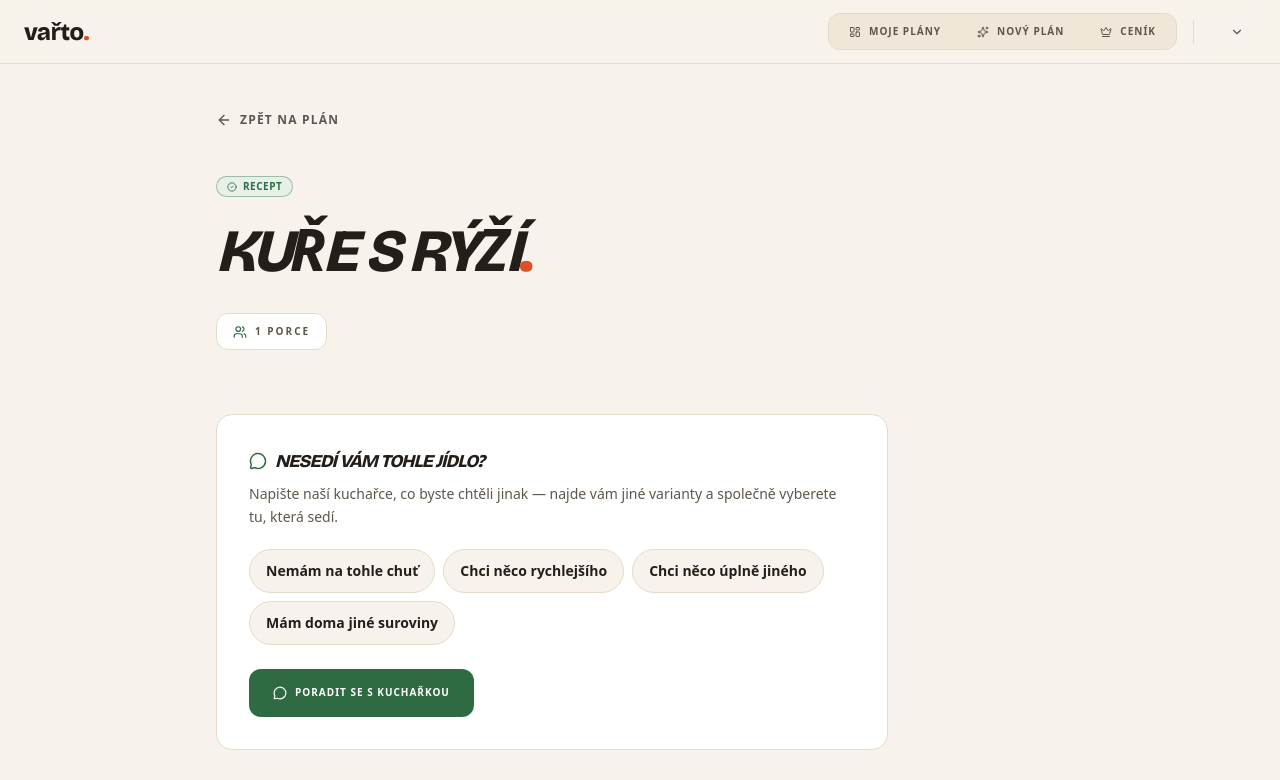
it: RecipePage refine chat integration › undoing a swap › offers the way back and commits the previous recipe id
Click the button "Poradit se s kuchařkou" at (361, 692), box 249,668 -> 474,716
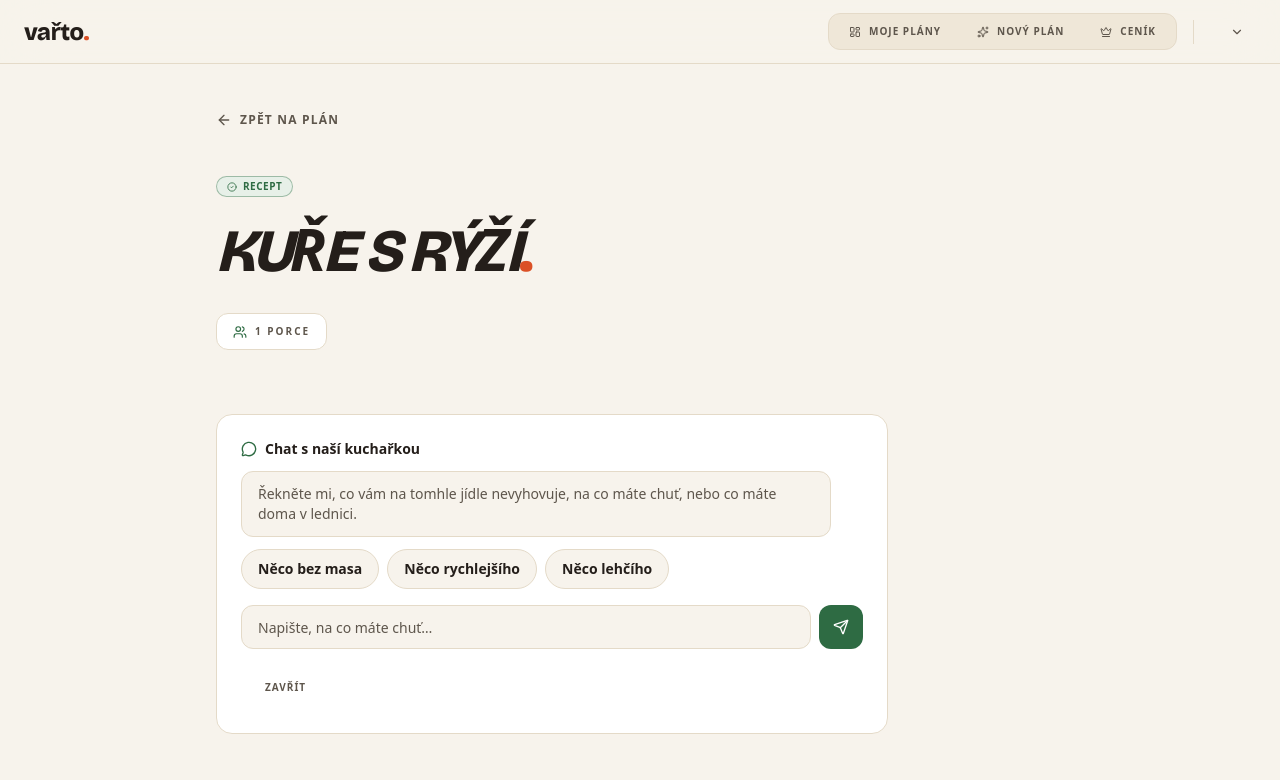
Type "něco s kuřecím" into the field with placeholder "Napište, na co máte chuť…" at (526, 627), box 241,605 -> 811,649
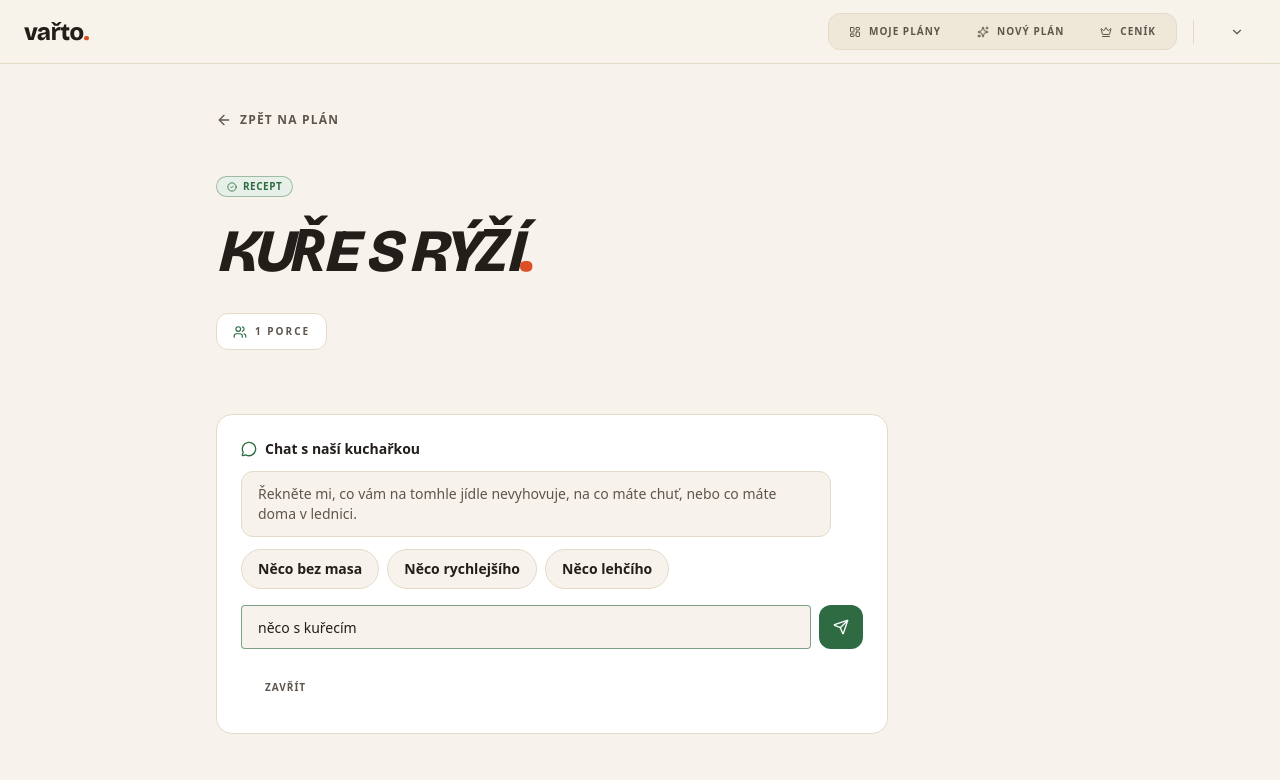
Click the button named "Odeslat" at (841, 627), box 819,605 -> 863,649
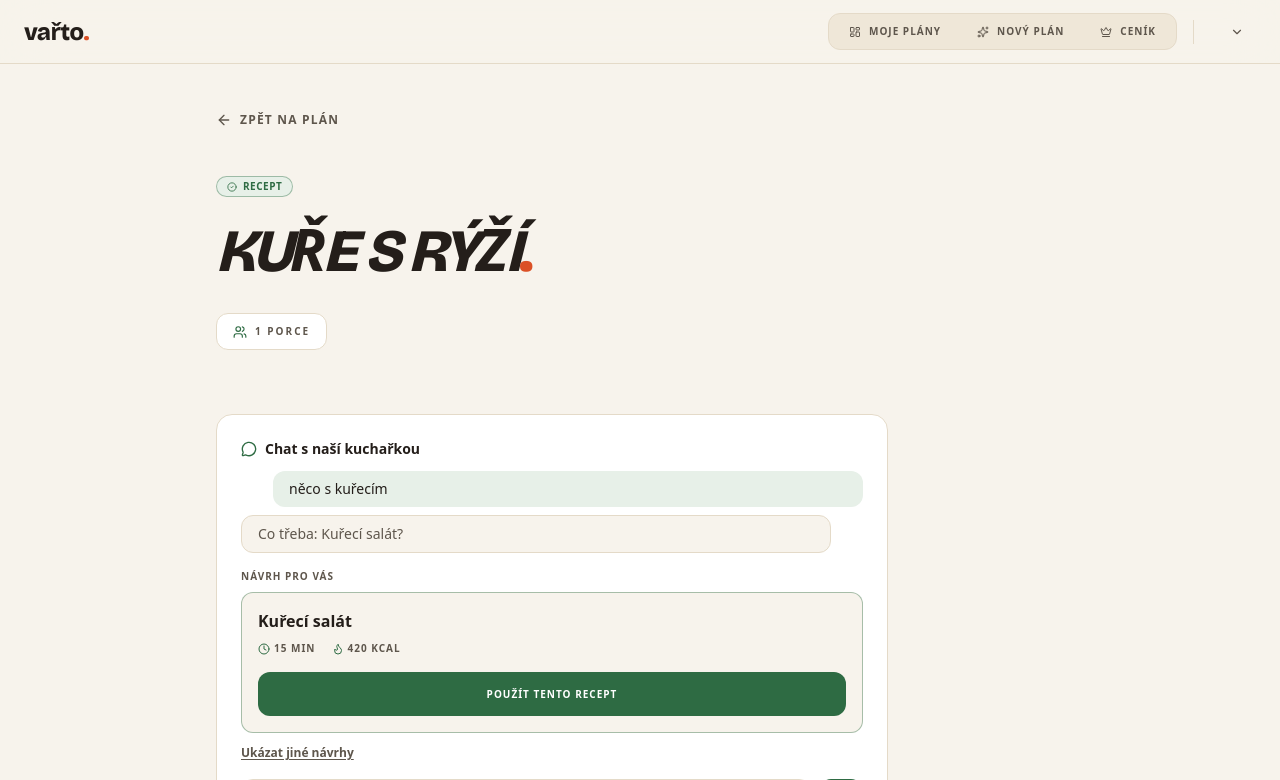
Click the button "Použít tento recept" at (552, 694), box 258,672 -> 846,716
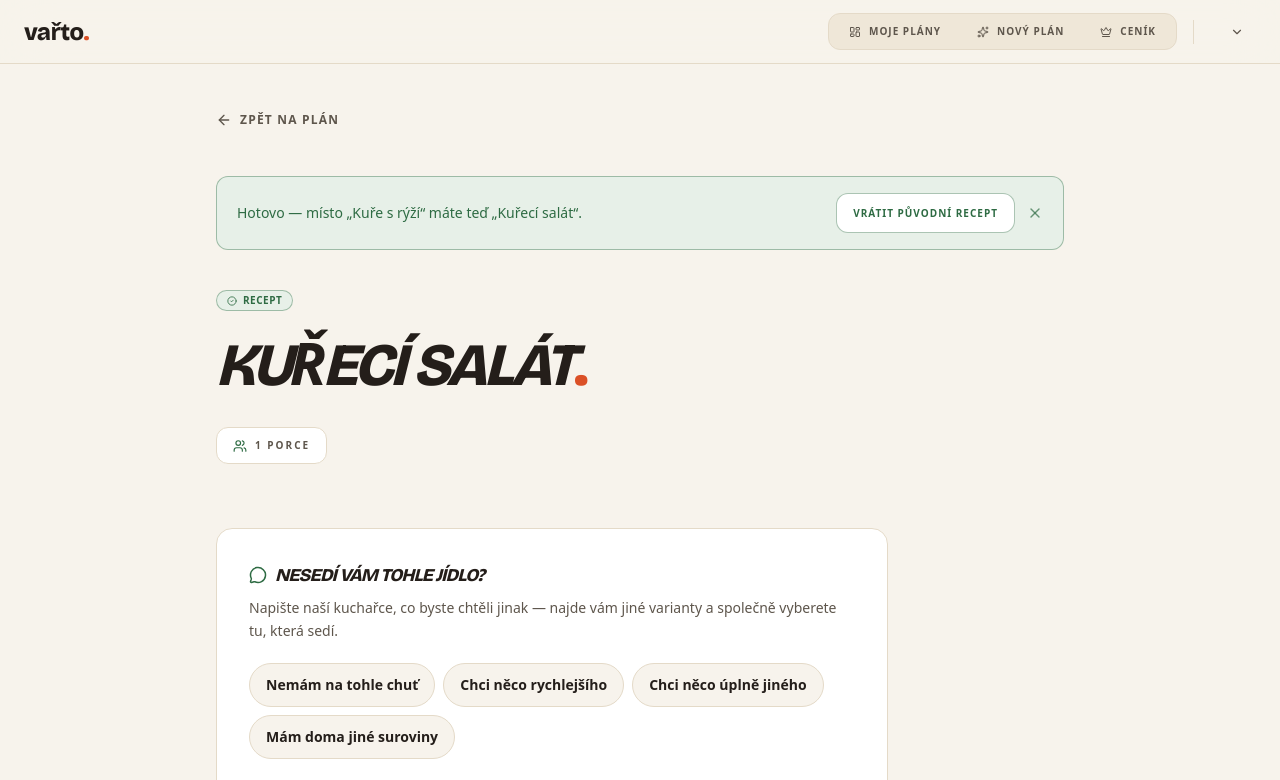
Click the button "Vrátit původní recept" at (926, 213), box 836,193 -> 1015,233
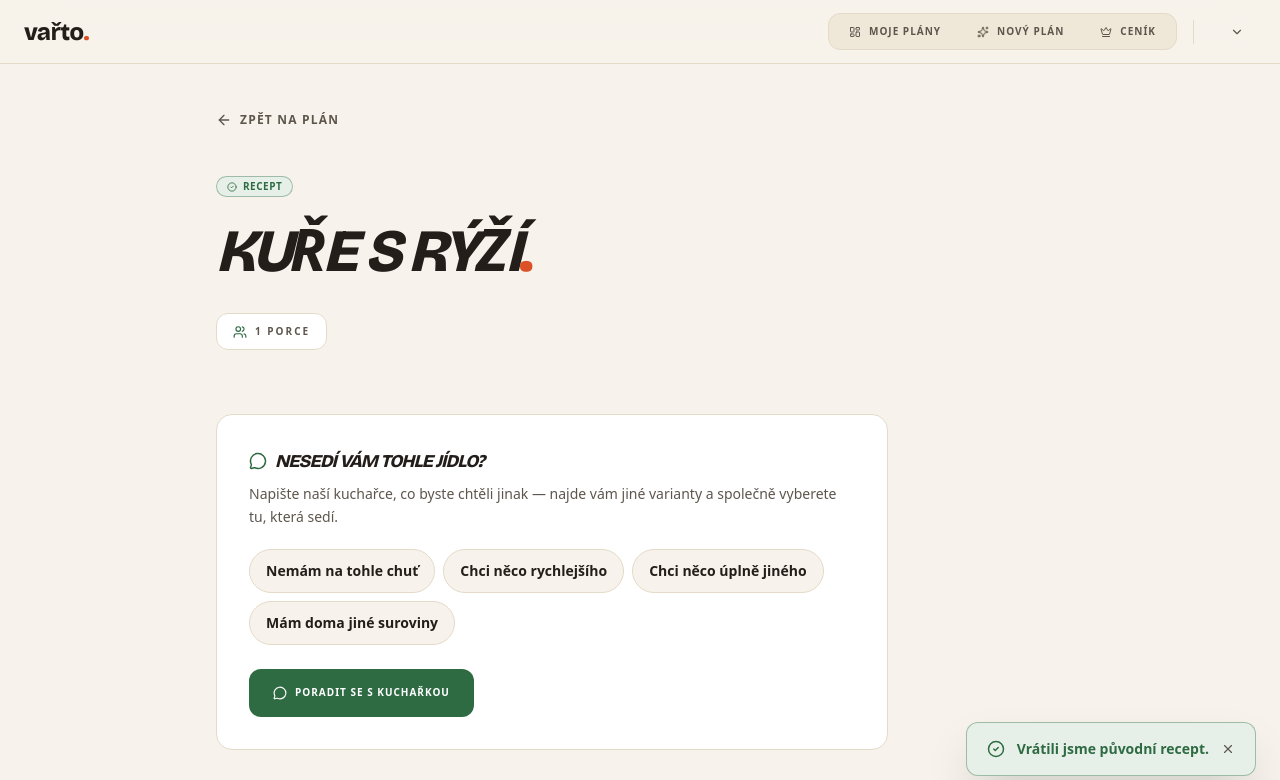
Expected: the text "Vrátili jsme původní recept." is shown, 1017,739 -> 1209,759
Expected: the button "Vrátit původní recept" is gone
